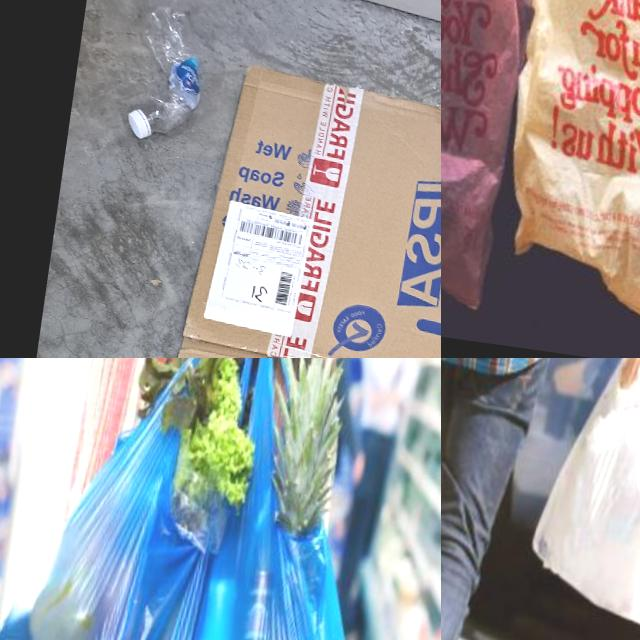garrafa plástica: (128, 3, 214, 138)
papelão: (124, 57, 441, 358)
sacola plástica: (138, 358, 427, 640), (0, 358, 265, 640), (476, 0, 640, 358), (441, 0, 561, 315), (516, 358, 640, 635)
tampa plástica: (125, 108, 154, 140)
